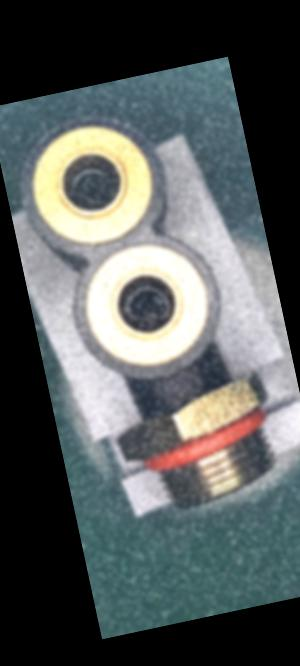joint line: (175, 373, 193, 408)
off-centered: (60, 159, 123, 217), (115, 277, 177, 334)
